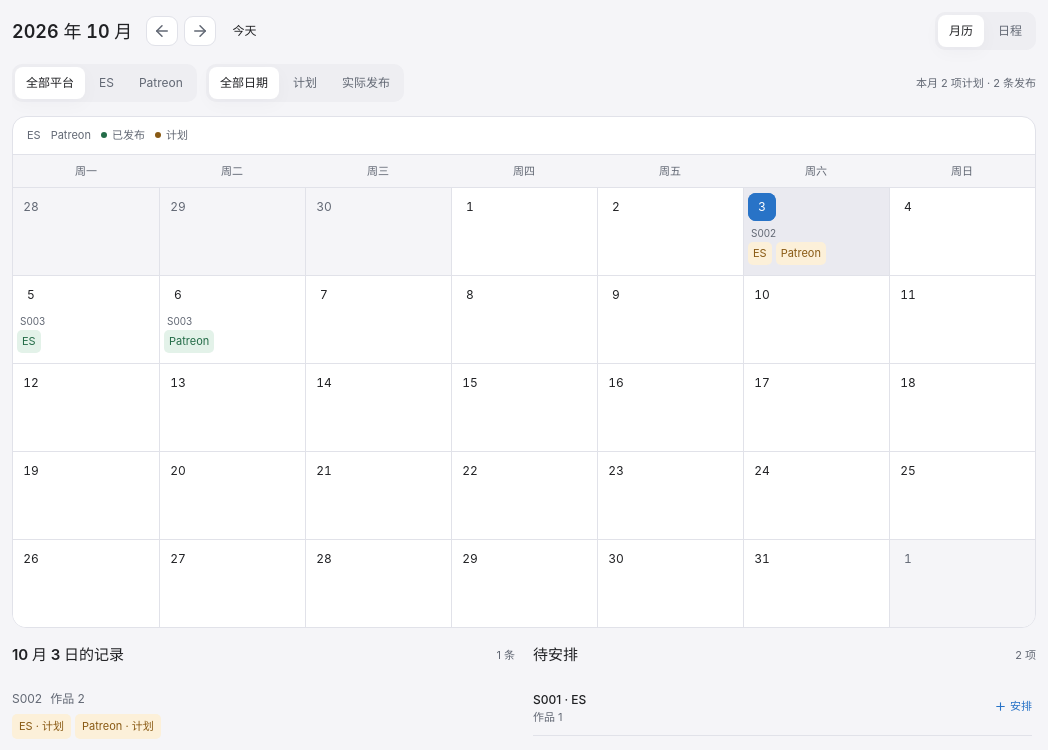
it: uses platform segments and schedules a pending platform from the day sidebar
What coordinates should you click on to do the following:
click the button "Patreon" in the row of "本月"
I would click on:
 (161, 83)
Its box is x1=128 y1=67 x2=194 y2=99.
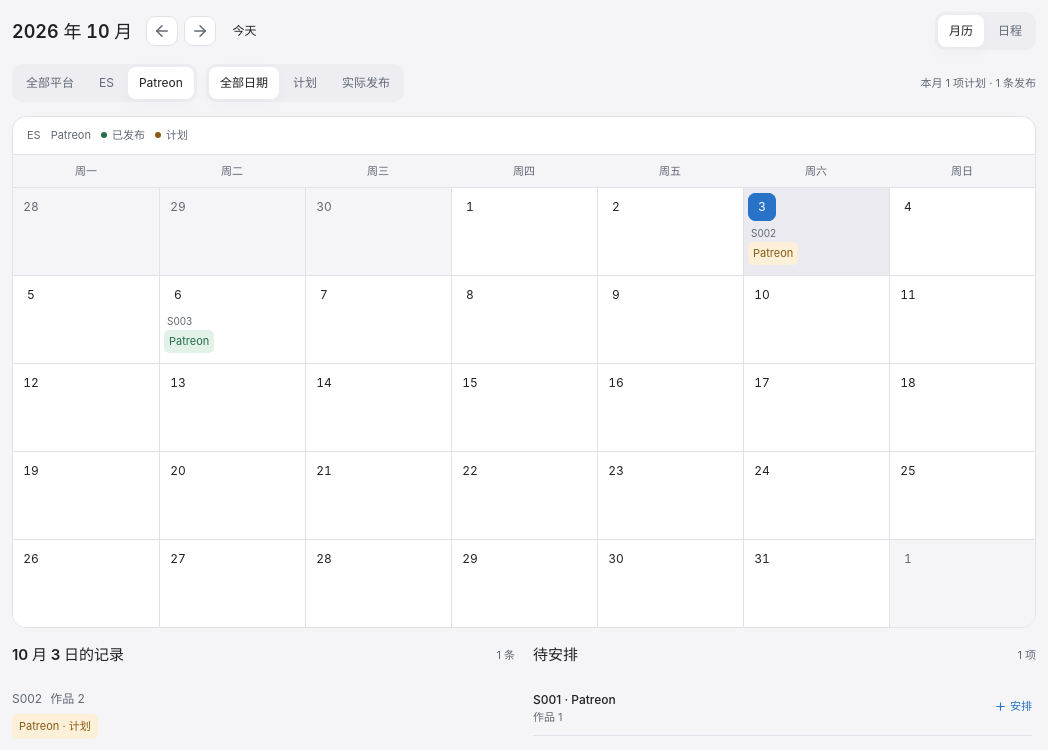
What coordinates should you click on to do the following:
click the button with aria-label "安排 S001 Patreon"
I would click on:
 (1013, 706)
Its box is x1=994 y1=694 x2=1032 y2=719.
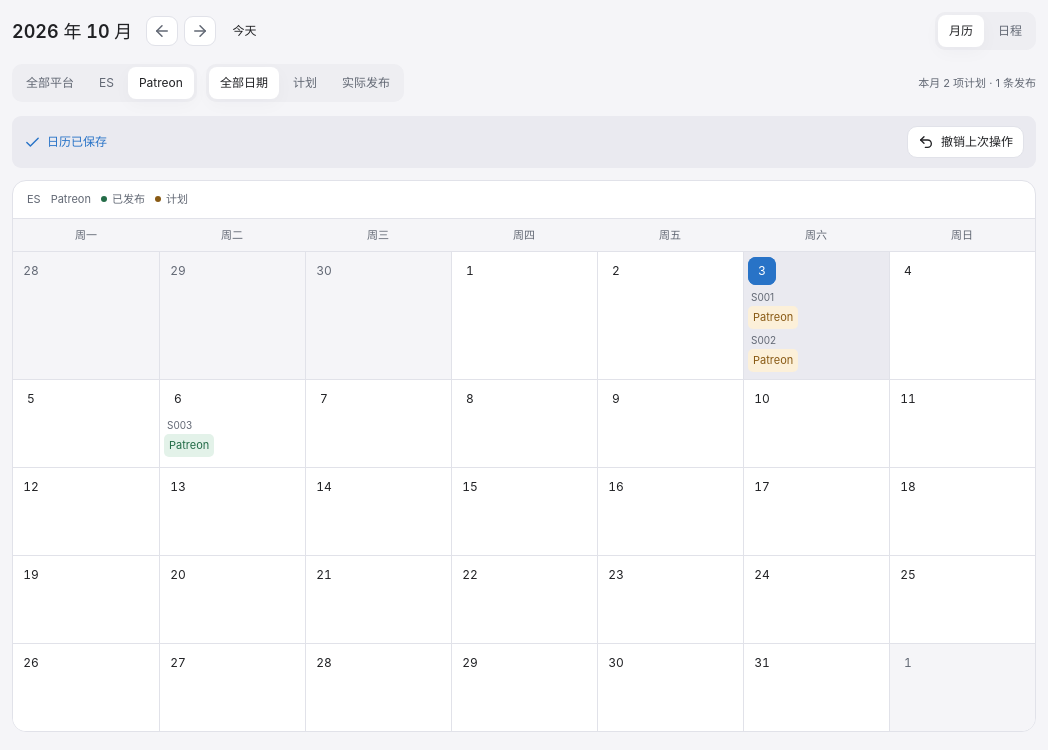
Expected: the button with aria-label "S001 Patreon 计划 2026-10-03" is shown, x1=748 y1=306 x2=798 y2=329
